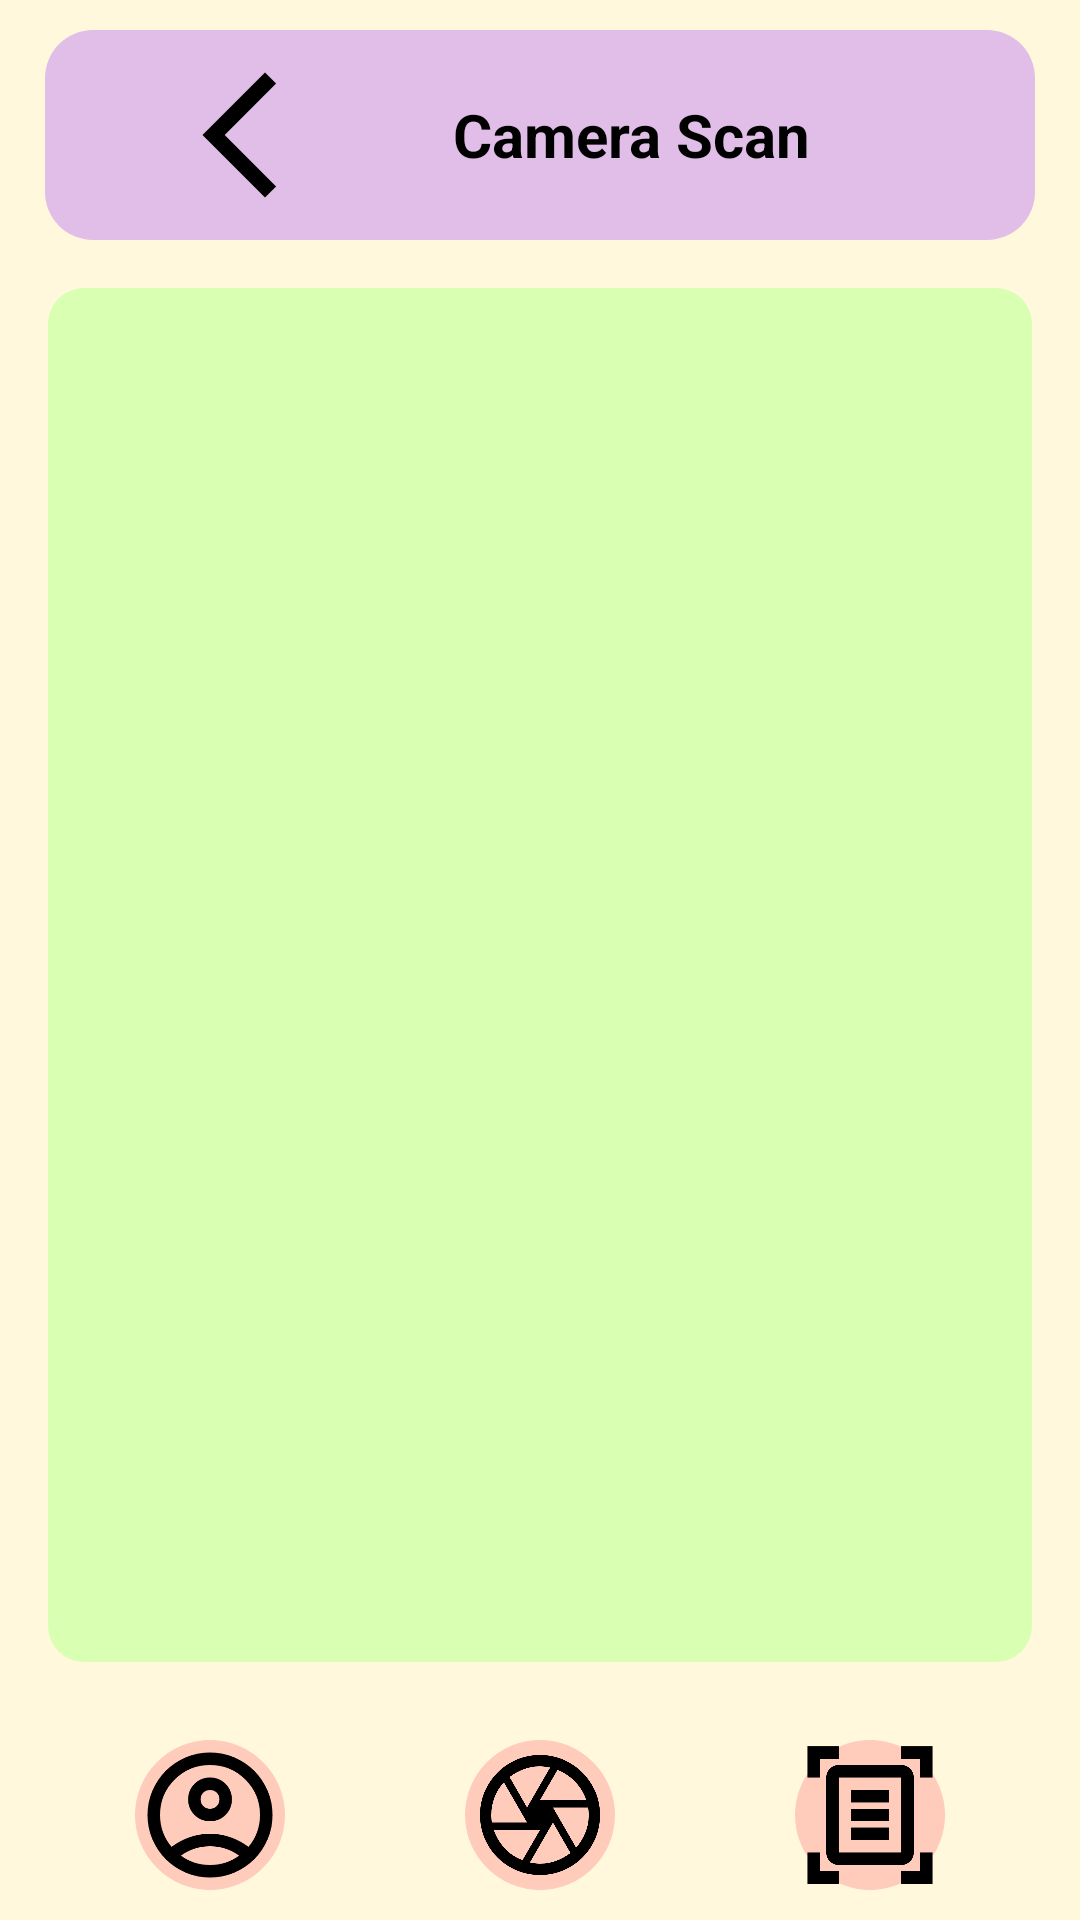

Screen size 1080px×1920px. Icon name, then its box in pixels as (x1, y1, x2, y2):
account circle: (135, 1740, 285, 1890)
arrow back: (202, 72, 276, 198)
camera: (465, 1740, 615, 1890)
document scanner: (795, 1740, 945, 1890)
